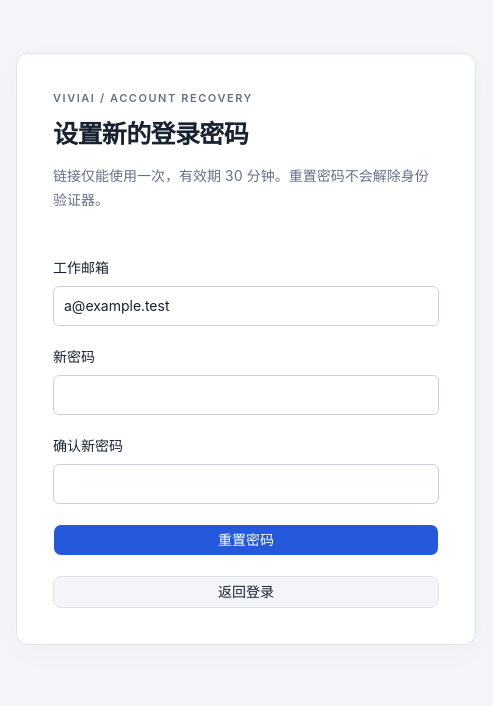
Test: recognizes a reset link in an already mounted guest form and masks invalid-reset server detail
The image size is (493, 706).
Type "secure-password-123" into the password field labelled "新密码".
click(246, 395); type("secure-password-123")  # box left=53, top=375, right=439, bottom=415
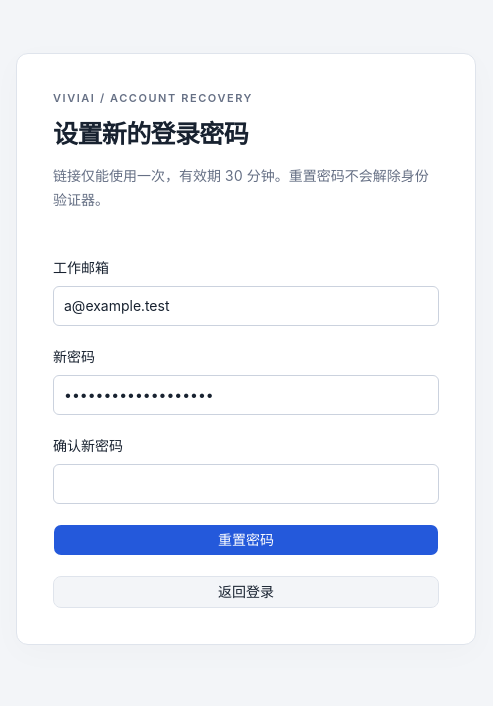
Type "secure-password-123" into the password field labelled "确认新密码".
click(246, 484); type("secure-password-123")  # box left=53, top=464, right=439, bottom=504
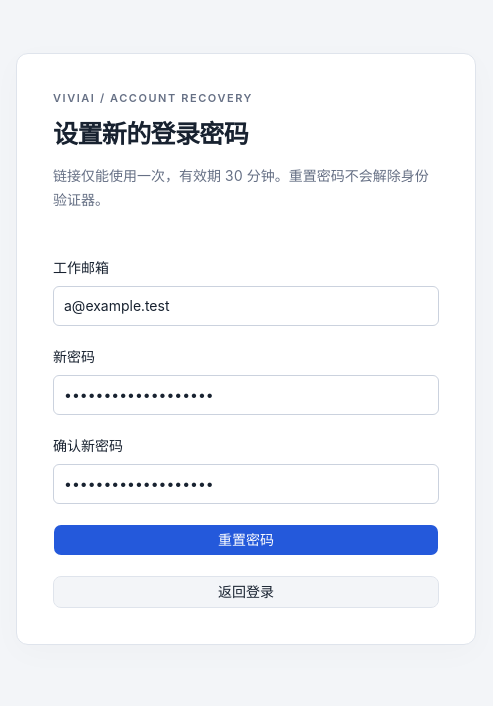
Click the button "重置密码".
click(246, 540)  # box left=53, top=524, right=439, bottom=556
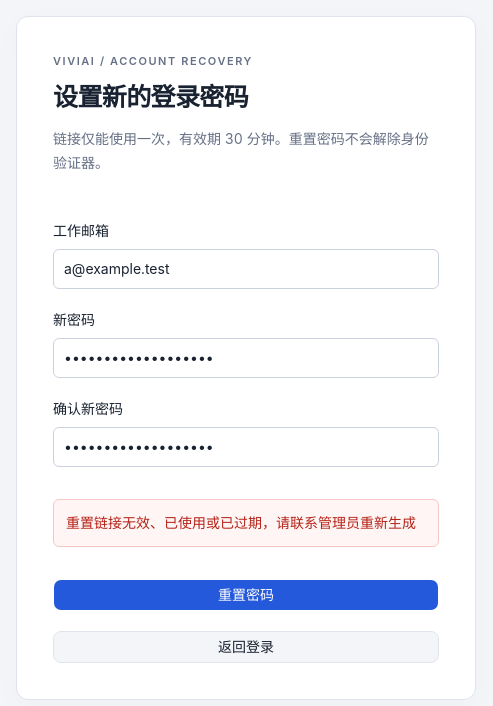
Result: the message shows "重置链接无效" at left=66, top=514, right=416, bottom=530
